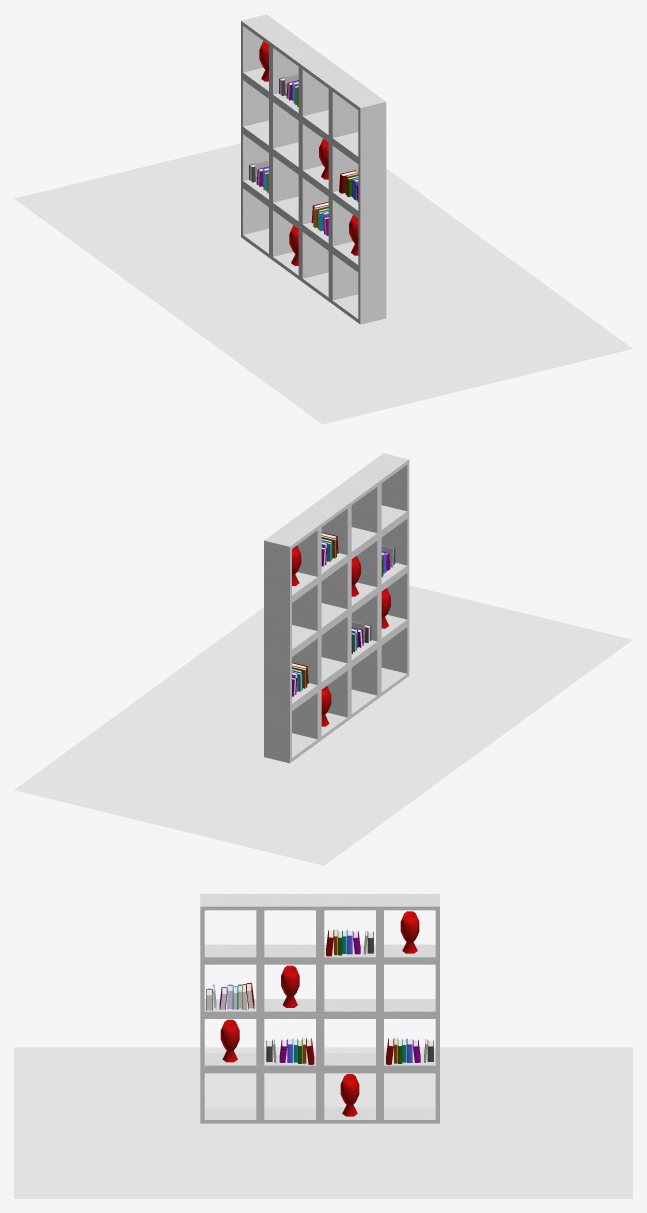
File: Decorated shelve large SHC QuickOffice.fbx
3 renders of one model, top to bottom at view 1: azimuth 30°, elevation 25°; view 2: azimuth 150°, elevation 25°; view 3: azimuth 270°, elevation 25°, orthographic.
Visible parts, largest first — view 1: Model, Component_121_1, Component_121_3, Component_121_2, Component_121_4; view 2: Model, Component_121_2, Component_121_4, Component_121_1, Component_121_3; view 3: Model, Component_121_1, Component_121_2, Component_121_3, Component_121_4, Component_132_1, Component_132_2, Component_132_3, Component_132_4.
Part boxes in pixels (bbox=[...]): Model: bbox=[14, 143, 632, 424]; Component_121_1: bbox=[300, 58, 386, 216]; Component_121_3: bbox=[300, 173, 386, 324]; Component_121_2: bbox=[241, 14, 325, 172]; Component_121_4: bbox=[241, 129, 300, 280]; Model: bbox=[14, 585, 632, 865]; Component_121_2: bbox=[264, 497, 349, 654]; Component_121_4: bbox=[264, 611, 349, 763]; Component_121_1: bbox=[324, 453, 409, 610]; Component_121_3: bbox=[349, 568, 409, 719]; Model: bbox=[14, 1047, 632, 1198]; Component_121_1: bbox=[200, 894, 319, 1015]; Component_121_2: bbox=[320, 894, 439, 1015]; Component_121_3: bbox=[200, 1015, 319, 1123]; Component_121_4: bbox=[320, 1015, 439, 1123]; Component_132_1: bbox=[220, 1019, 239, 1062]; Component_132_2: bbox=[340, 1074, 359, 1116]; Component_132_3: bbox=[400, 911, 419, 953]; Component_132_4: bbox=[281, 965, 299, 1007].
Size of the model in its own units: 4.27 by 2.85 by 7.36.
